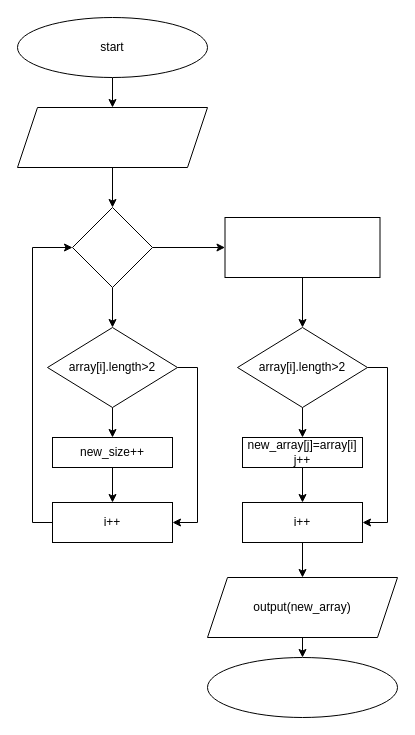
Some shapes in this 415 by 735 pixel diagram are drawn without their labels. The shapes that lost their labels are listed below. From the top down, each one's centre as x and y in pixels, then its label:
At (x=112, y=137): "input(array) new_size=0 i=0".
At (x=112, y=247): "i<array.size".
At (x=302, y=247): "i=0 new(new_array[new_size]) j=0".
At (x=302, y=687): "end".
